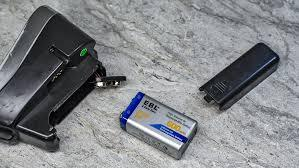9V: (117, 86, 201, 162)
